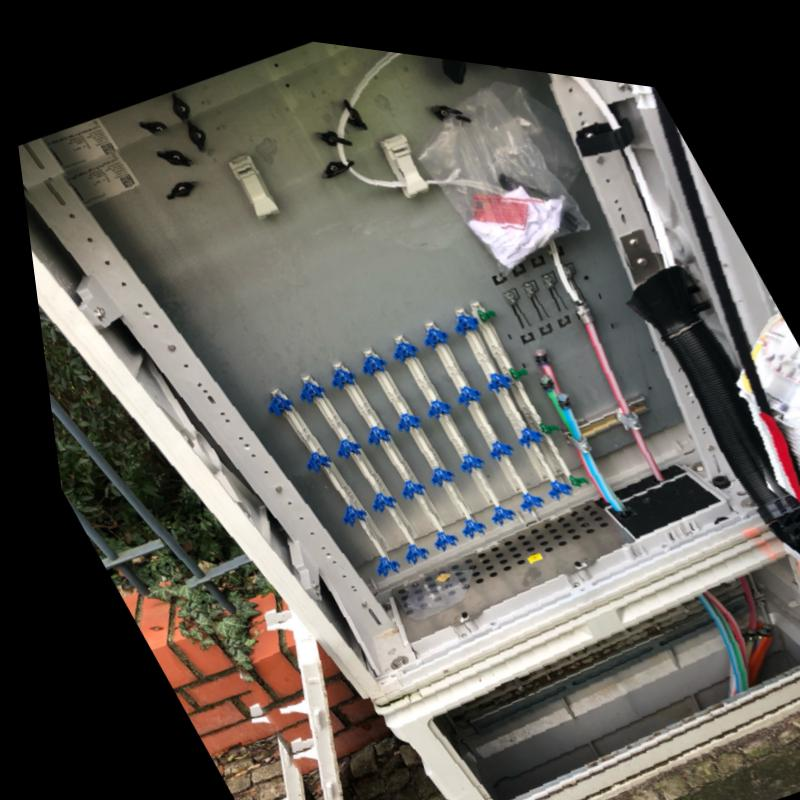NT-Gehause: (18, 36, 800, 800)
Spleiskassetten: (629, 66, 800, 497)
